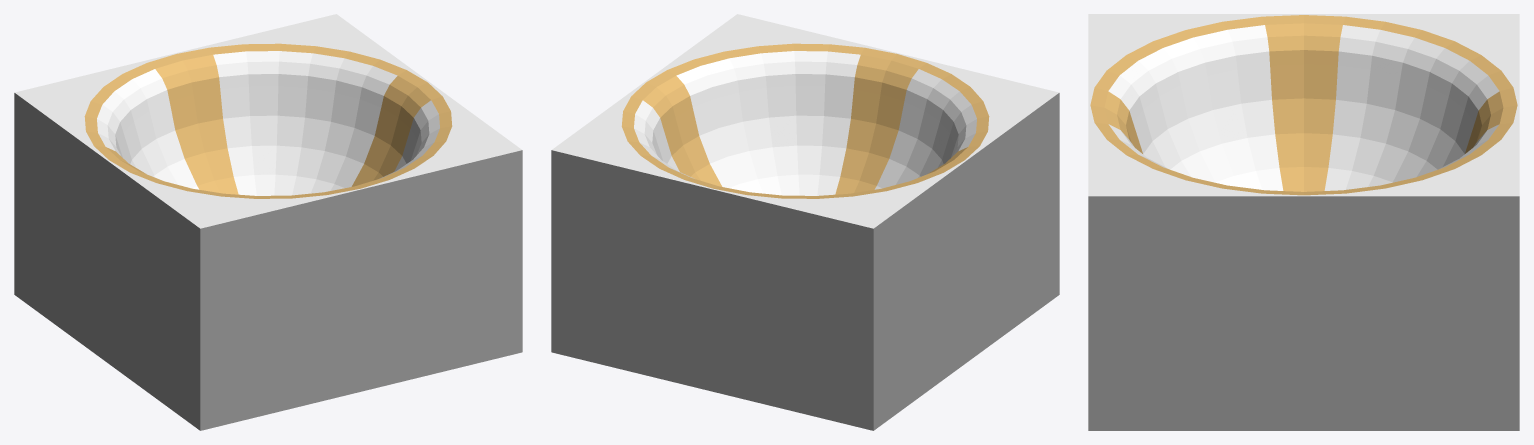
The model's file is RoundHoleCube_40x40x24.fbx.
3 renders of one model, left to right at view 1: azimuth 30°, elevation 25°; view 2: azimuth 150°, elevation 25°; view 3: azimuth 270°, elevation 25°, orthographic. The views are drawn at different scales.
Visible parts, largest first — view 1: RoundHoleCube_40x40x24; view 2: RoundHoleCube_40x40x24; view 3: RoundHoleCube_40x40x24.
Boxes of the visible parts, x1,y1,x2,y2 form: RoundHoleCube_40x40x24: [14, 14, 522, 430]; RoundHoleCube_40x40x24: [551, 14, 1059, 430]; RoundHoleCube_40x40x24: [1088, 14, 1519, 430].
Size of the model in its own units: 40 by 24 by 40.
